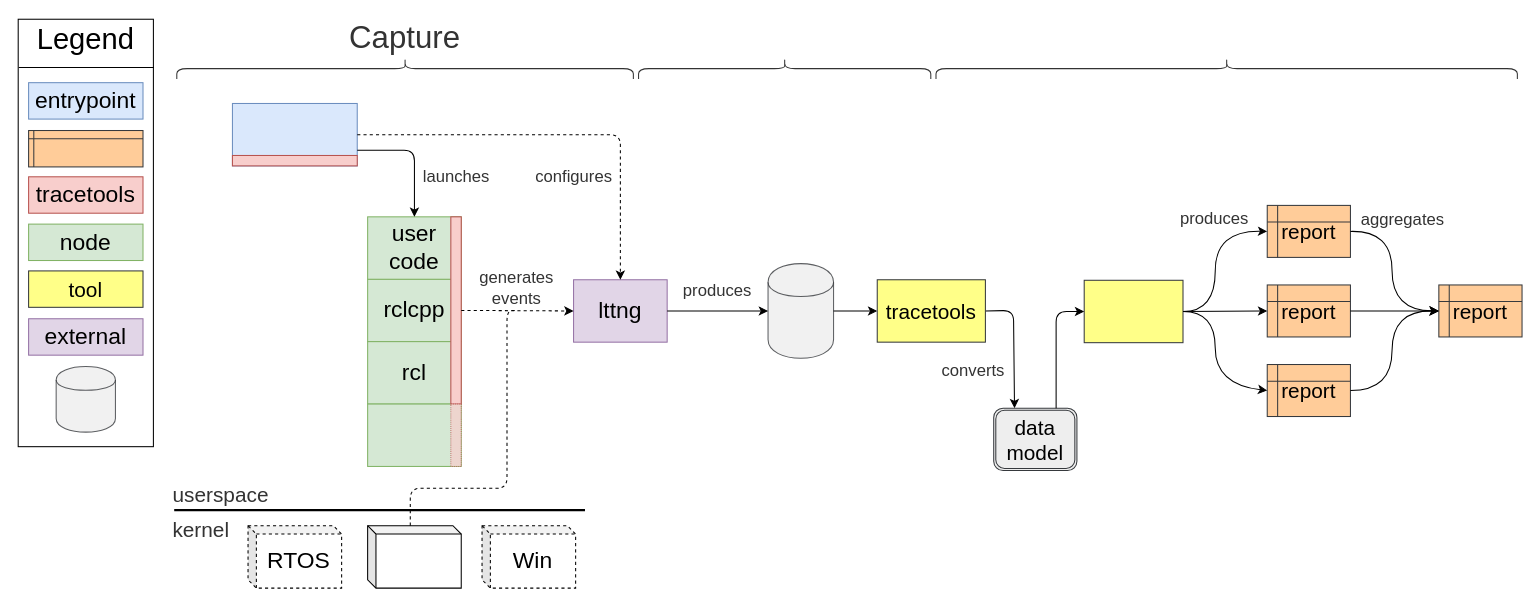
This 1540x606 diagram has some shape labels left out. Here are the shapes that lost their labels. From the top down, the centre of each, then its label:
At point 784,68: "Extract".
At point 1226,68: "Analyze".
At point 85,148: "output".
At point 294,134: "launch file".
At point 800,310: "trace data".
At point 1133,311: "tracetools analysis".
At point 85,399: "file".
At point 414,434: "rmw".
At point 414,556: "Linux".
